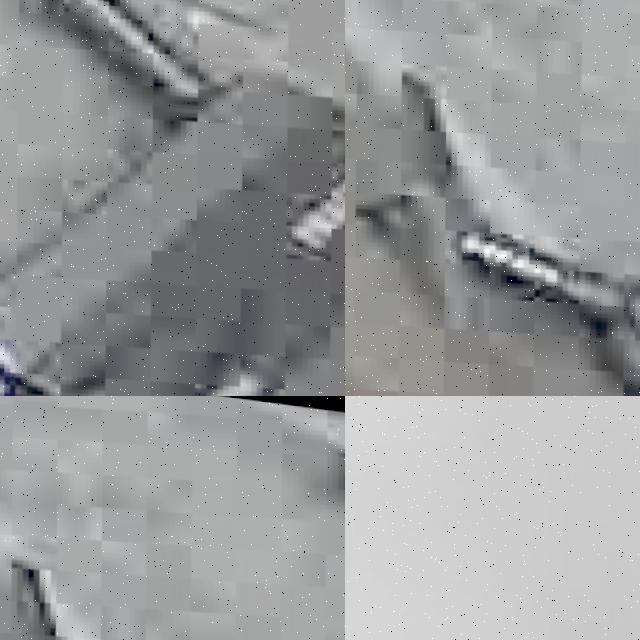drone: (0, 0, 345, 396), (345, 0, 640, 396), (0, 396, 345, 640), (345, 396, 640, 640)
